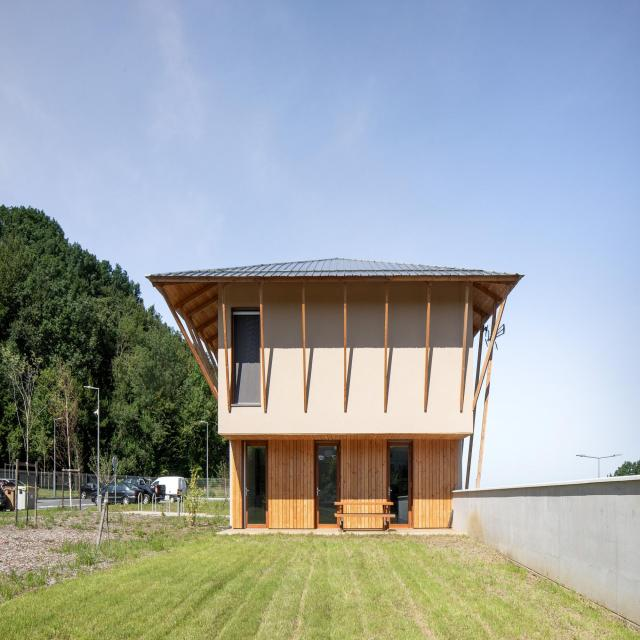door: (241, 439, 268, 529), (314, 440, 341, 527), (387, 438, 412, 528)
window: (230, 308, 262, 406)
